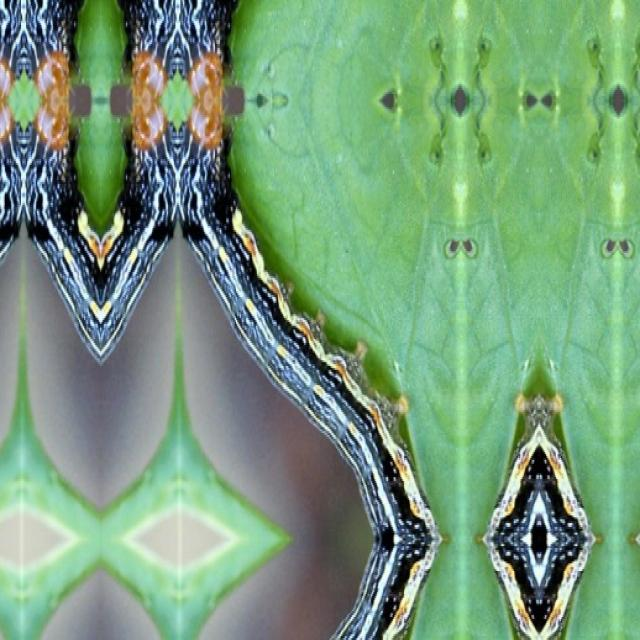armyworm: (0, 0, 442, 638), (480, 389, 596, 638)
